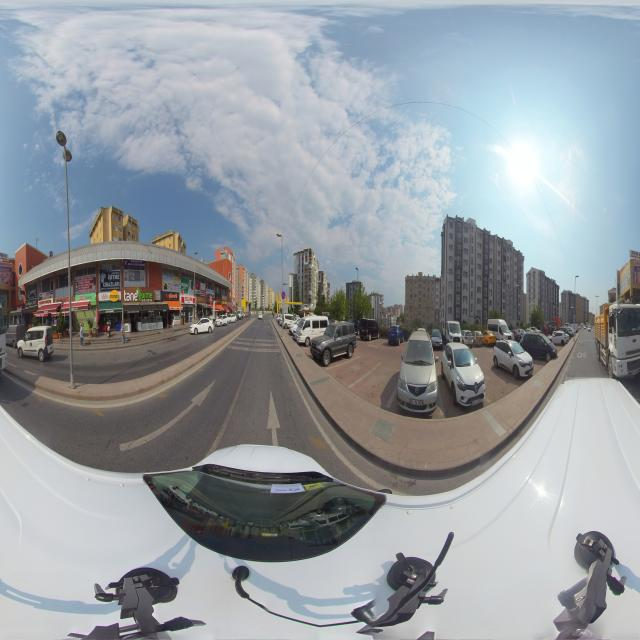SignStore: (123, 287, 154, 303), (101, 292, 121, 301), (124, 259, 145, 266), (26, 287, 37, 300), (78, 293, 93, 301), (26, 299, 36, 307), (55, 297, 68, 303), (39, 299, 52, 305), (206, 289, 214, 298), (166, 293, 178, 299), (184, 297, 193, 303), (155, 290, 160, 300), (17, 305, 23, 310), (198, 297, 204, 302), (217, 296, 221, 303), (222, 300, 227, 305), (222, 295, 227, 300), (209, 298, 213, 304), (228, 301, 232, 306)
